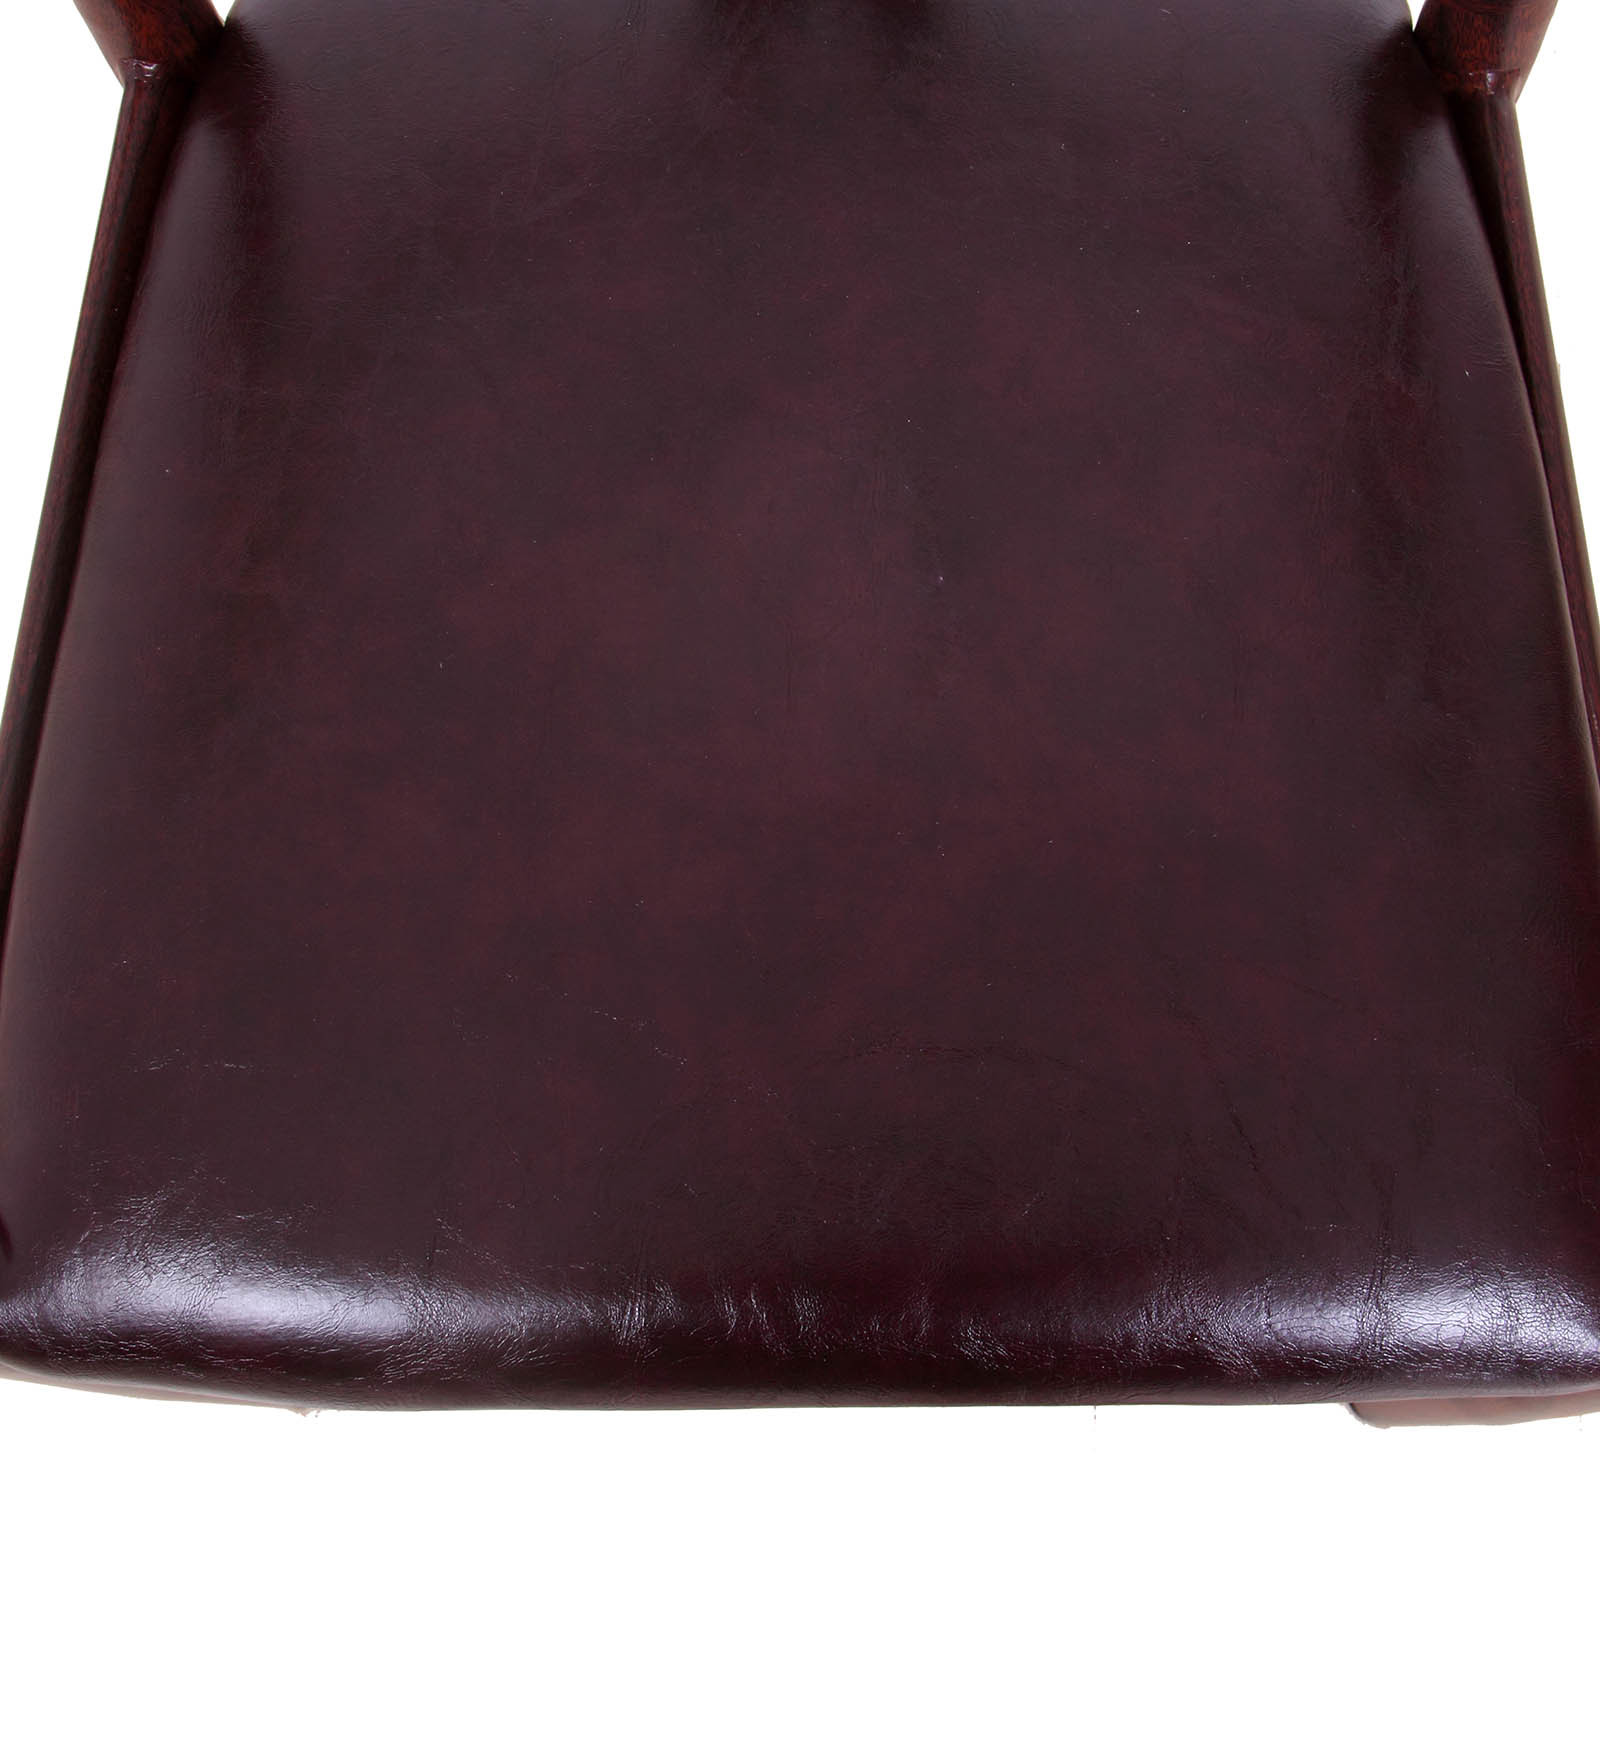Palo Metal Chair (Set of 2) in Walnut Finish by Bohemiana: (23, 11, 1565, 1446)
